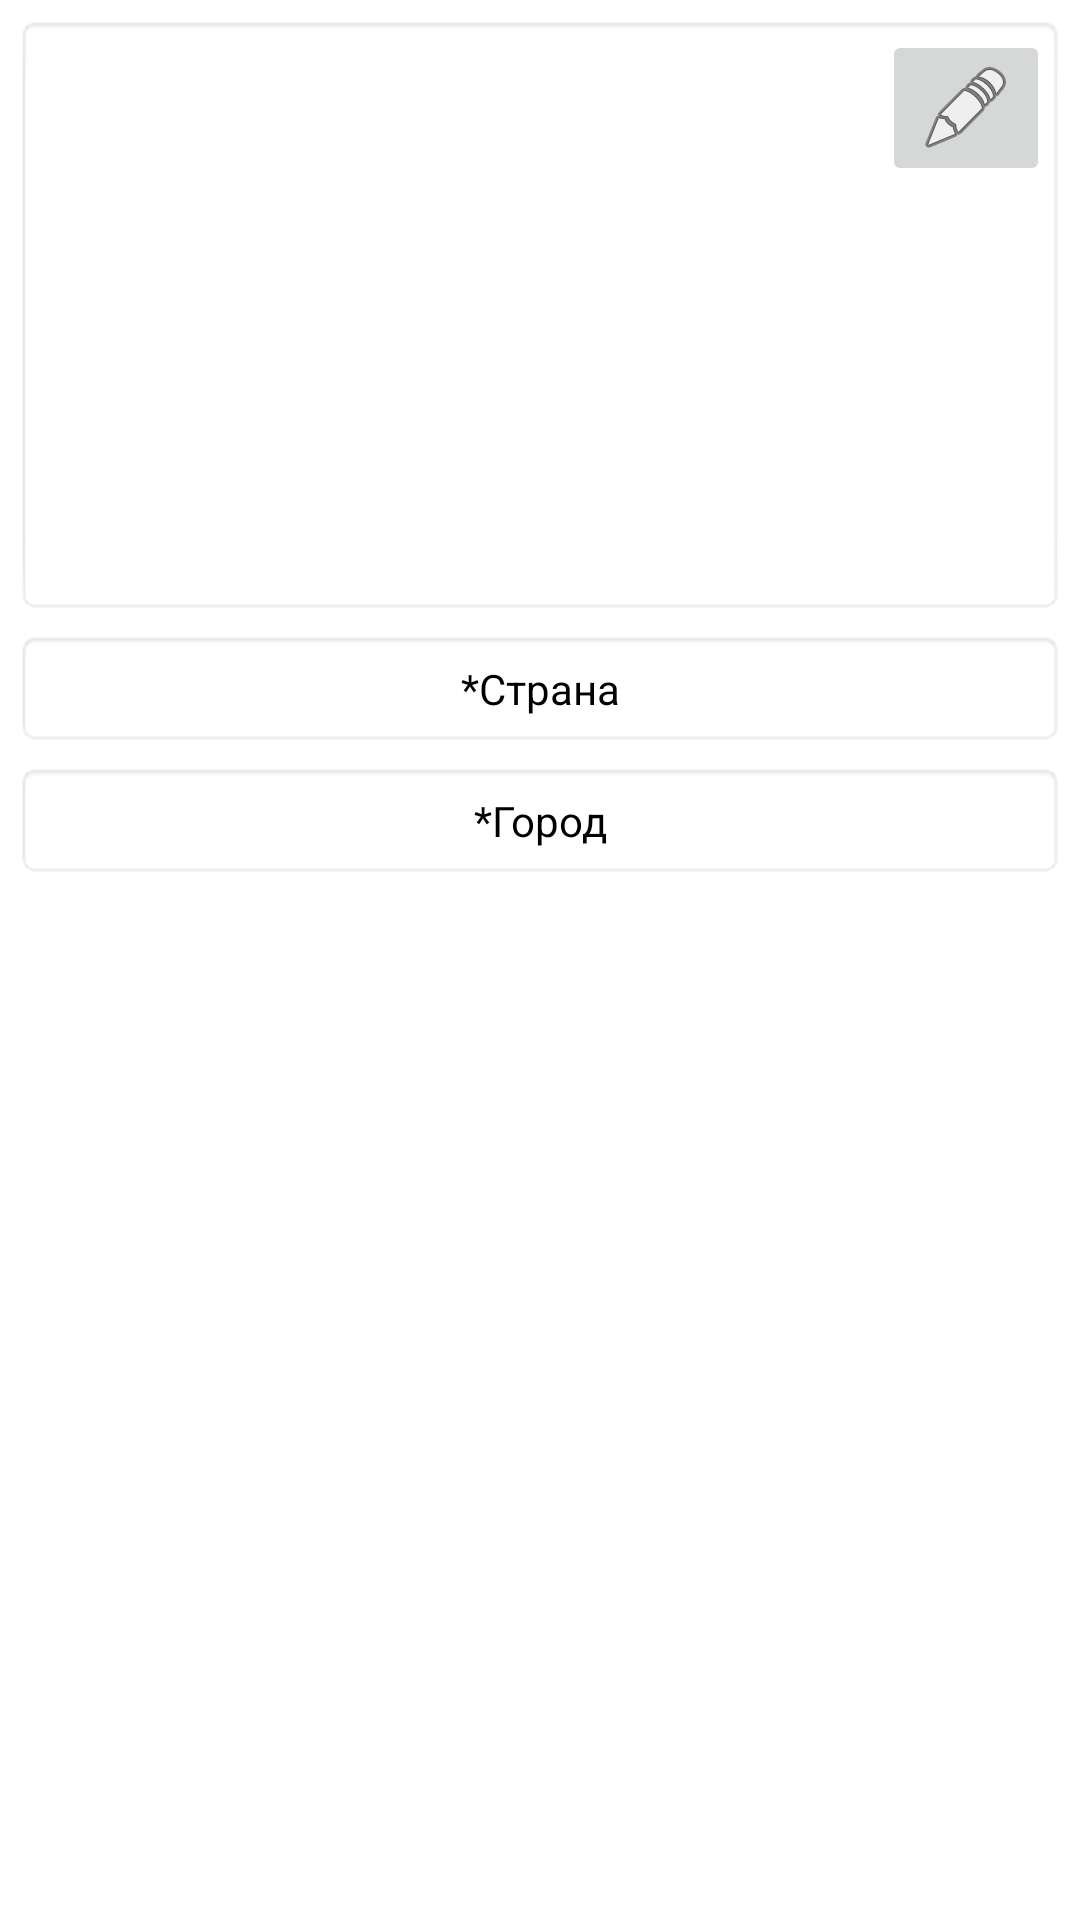

Where to tap for icons on this 1080x1920 app screen, as point (x, y):
edit: point (966, 108)
